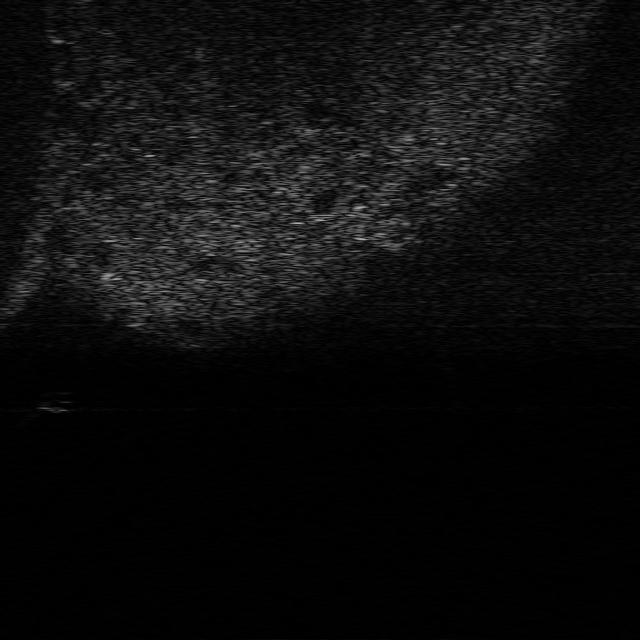cube: (38, 388, 80, 414)
